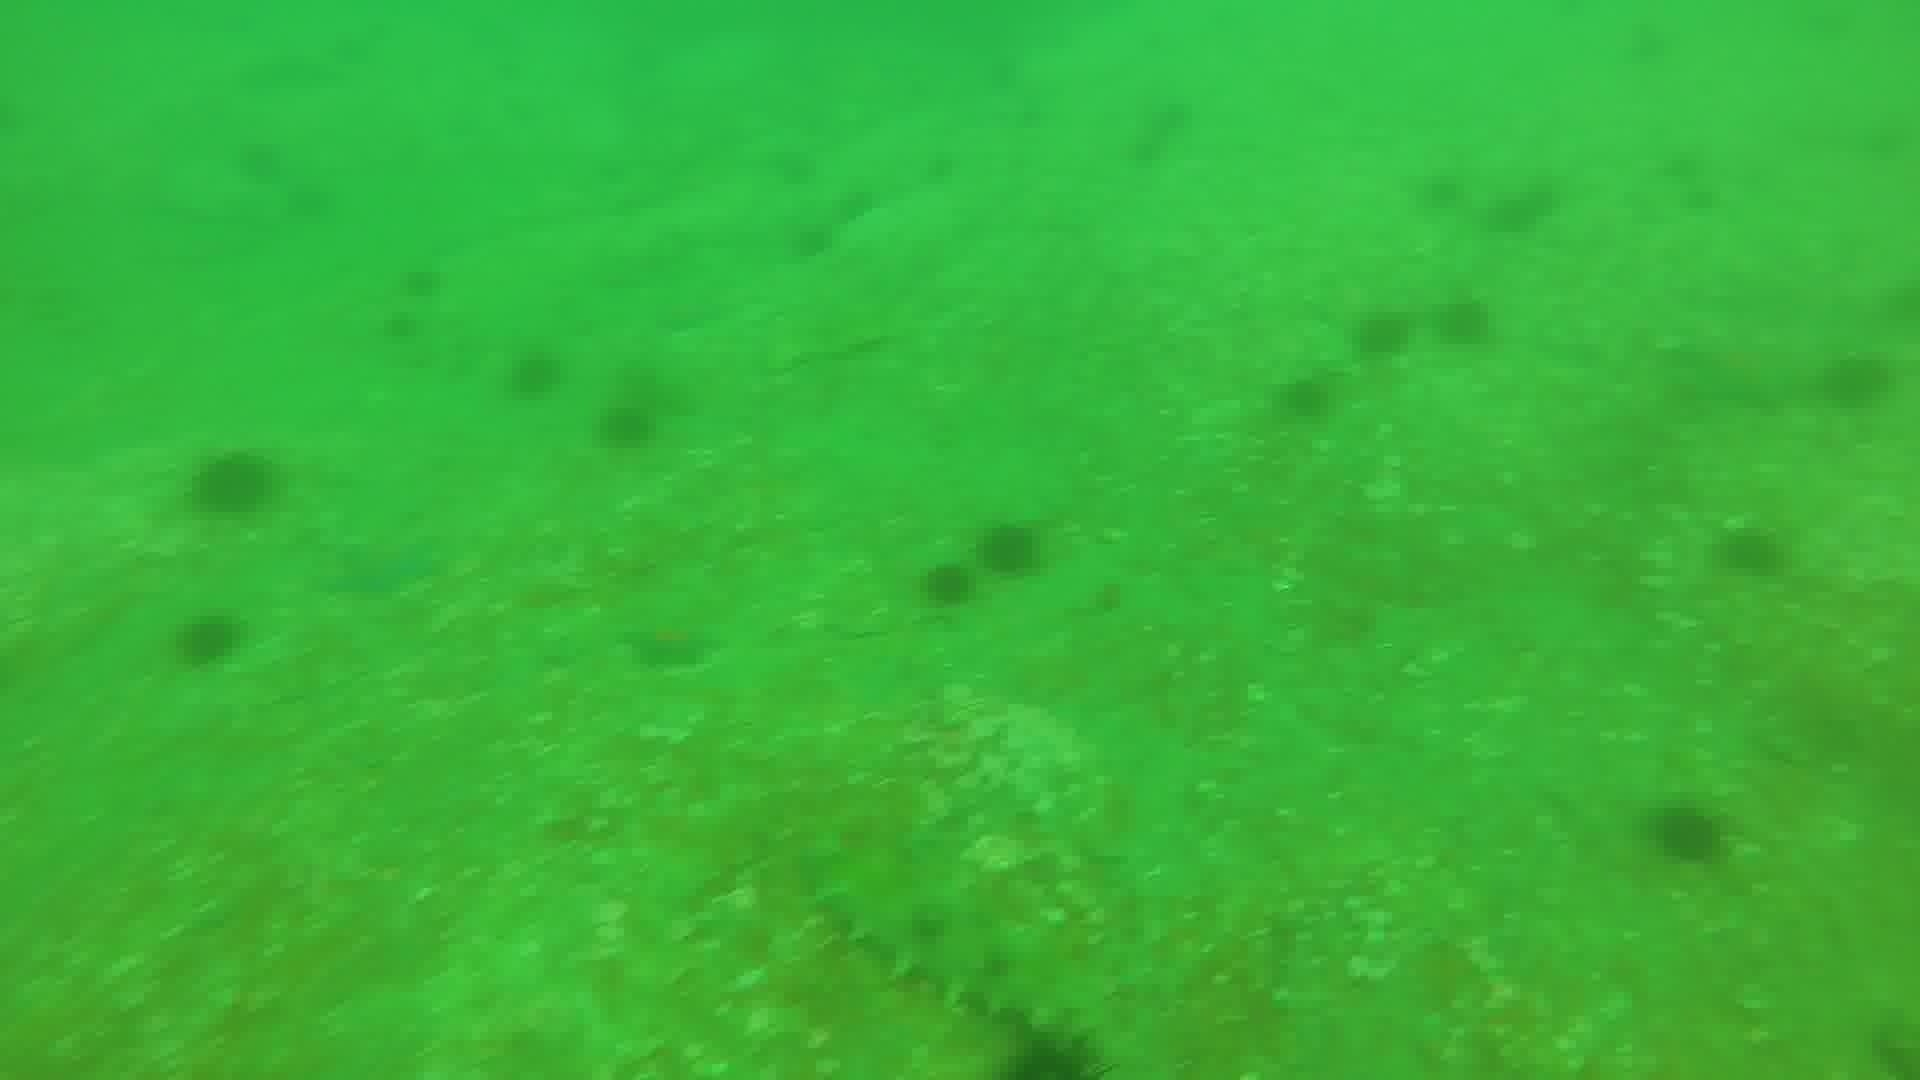echinus: (186, 447, 280, 522), (996, 1022, 1112, 1077), (1644, 799, 1731, 869), (1816, 349, 1896, 415), (169, 608, 247, 673), (1710, 521, 1789, 584), (1482, 175, 1561, 239), (973, 518, 1048, 582), (1348, 305, 1416, 365), (1431, 293, 1499, 352), (1270, 371, 1338, 429), (501, 345, 568, 404), (593, 398, 662, 455), (916, 558, 980, 613), (1408, 165, 1469, 218), (396, 258, 447, 303), (376, 309, 427, 348)
holothurian: (804, 832, 1112, 1050)
starfish: (1669, 326, 1803, 415), (324, 527, 444, 603), (618, 613, 725, 675)
